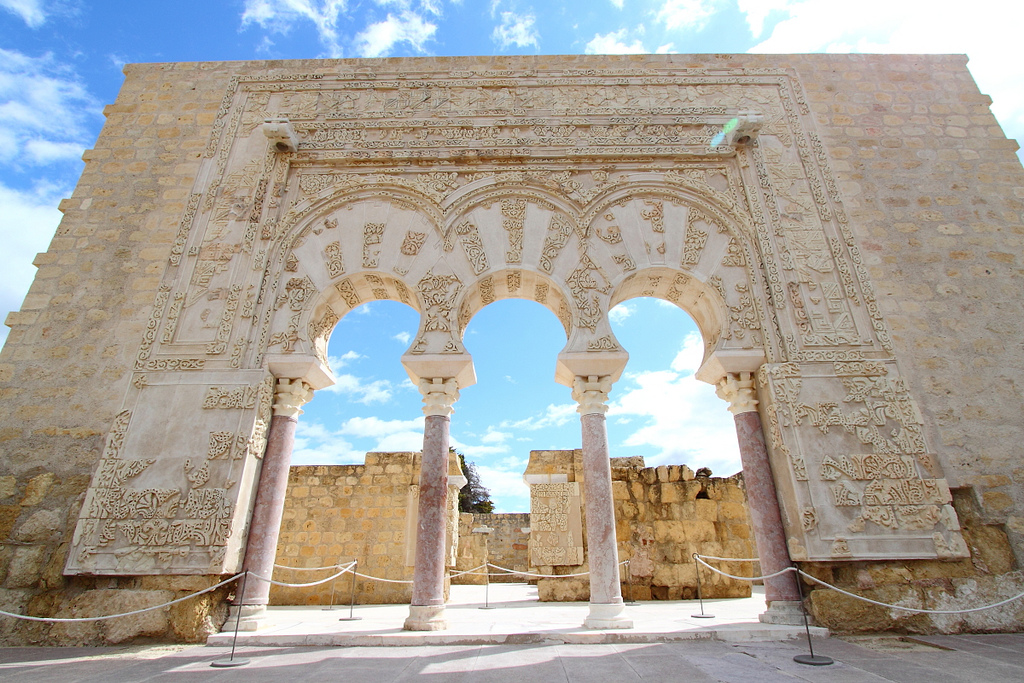arco-herradura: (436, 256, 593, 411), (290, 264, 439, 420), (592, 256, 742, 408)
